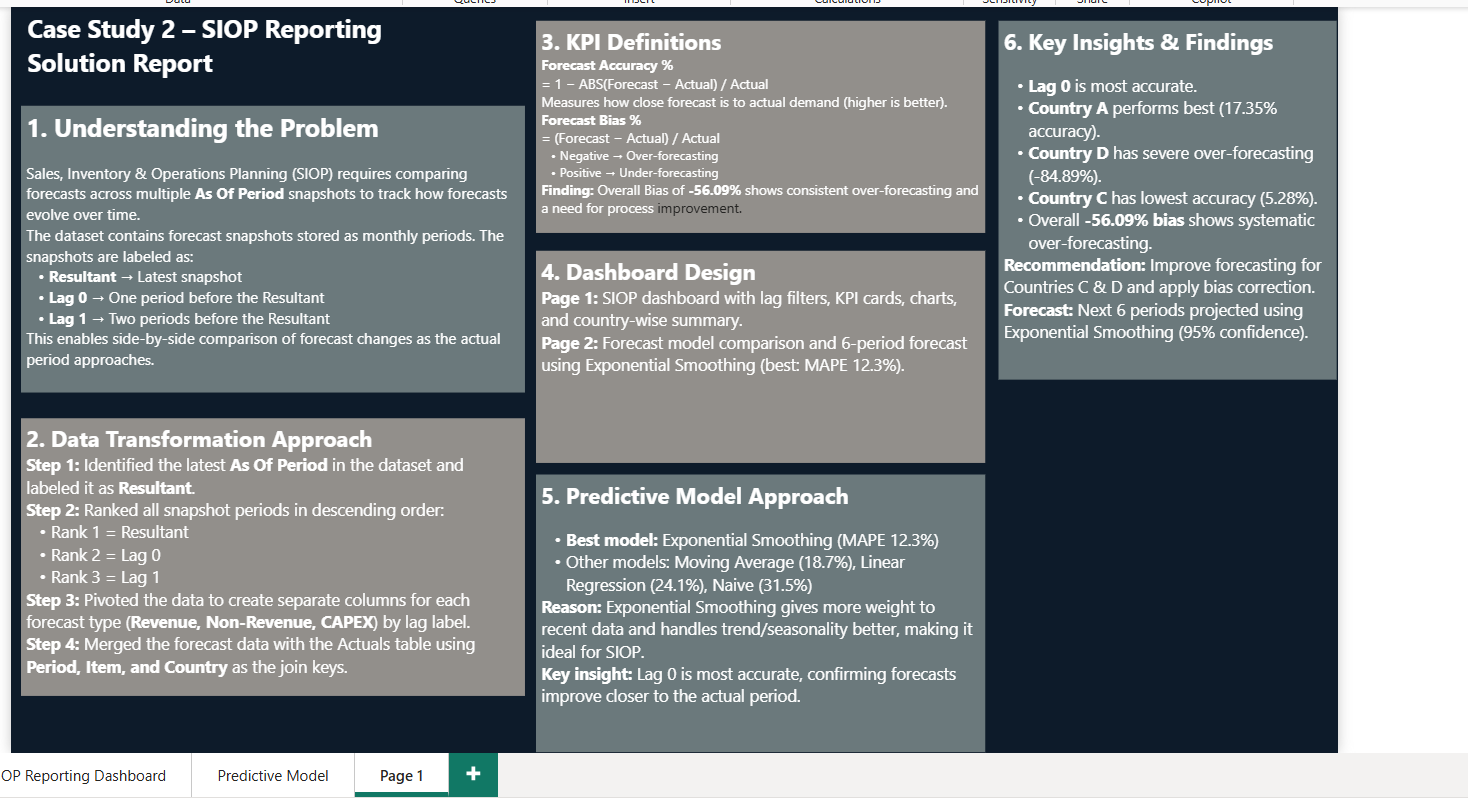

The page's visual inventory and layout, read from the dashboard file:
{"tool":"powerbi","page":{"name":"Page 1","canvas":[1280,720],"ordinal":2},"visuals":[{"type":"textbox","box":[10.3,0,553.8,121],"z":0},{"type":"textbox","box":[10,95,486.7,276.7],"z":1},{"type":"textbox","box":[10,396.7,486.7,268.3],"z":2},{"type":"textbox","box":[506.7,13.3,433.3,205],"z":3},{"type":"textbox","box":[506.7,235,433.3,205],"z":4},{"type":"textbox","box":[506.7,451.7,433.3,268.3],"z":5},{"type":"textbox","box":[953.3,13.3,326.7,346.7],"z":6}]}

Visuals, with their boxes on the page's 1280x720 design canvas (x1, y1, x2, y2). These are canvas units, not pixel positions in the 1468x798 screenshot, which may show the page scaled, cropped or inside an application window:
textbox: bbox(10, 0, 564, 121)
textbox: bbox(10, 95, 497, 372)
textbox: bbox(10, 397, 497, 665)
textbox: bbox(507, 13, 940, 218)
textbox: bbox(507, 235, 940, 440)
textbox: bbox(507, 452, 940, 720)
textbox: bbox(953, 13, 1280, 360)
